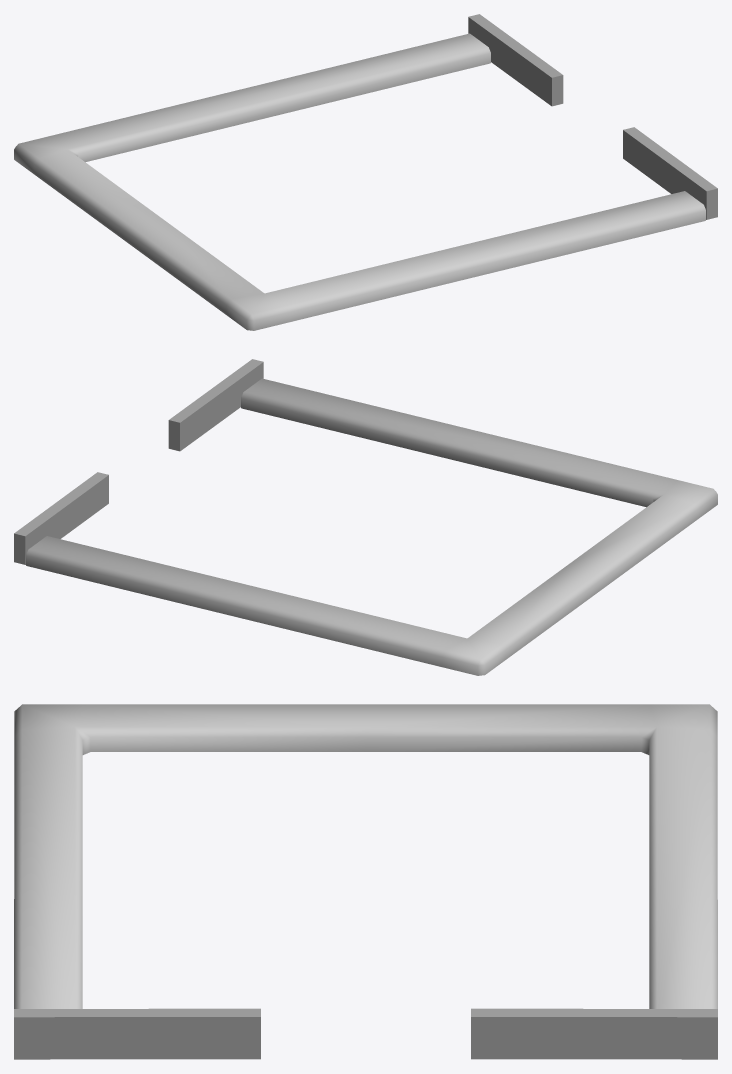
Rendered from bld_poi_church_fence_a.fbx.
3 renders of one model, top to bottom at view 1: azimuth 30°, elevation 25°; view 2: azimuth 150°, elevation 25°; view 3: azimuth 270°, elevation 25°, orthographic. The views are drawn at different scales.
Parts seen in each view (by area): view 1: bld_poi_church_fence_a.001; view 2: bld_poi_church_fence_a.001; view 3: bld_poi_church_fence_a.001.
Boxes of the visible parts, x1,y1,x2,y2 form: bld_poi_church_fence_a.001: [14, 14, 717, 330]; bld_poi_church_fence_a.001: [14, 359, 717, 675]; bld_poi_church_fence_a.001: [14, 704, 717, 1059].
Bounding box in the file's own units: 4764 × 287 × 4200.
